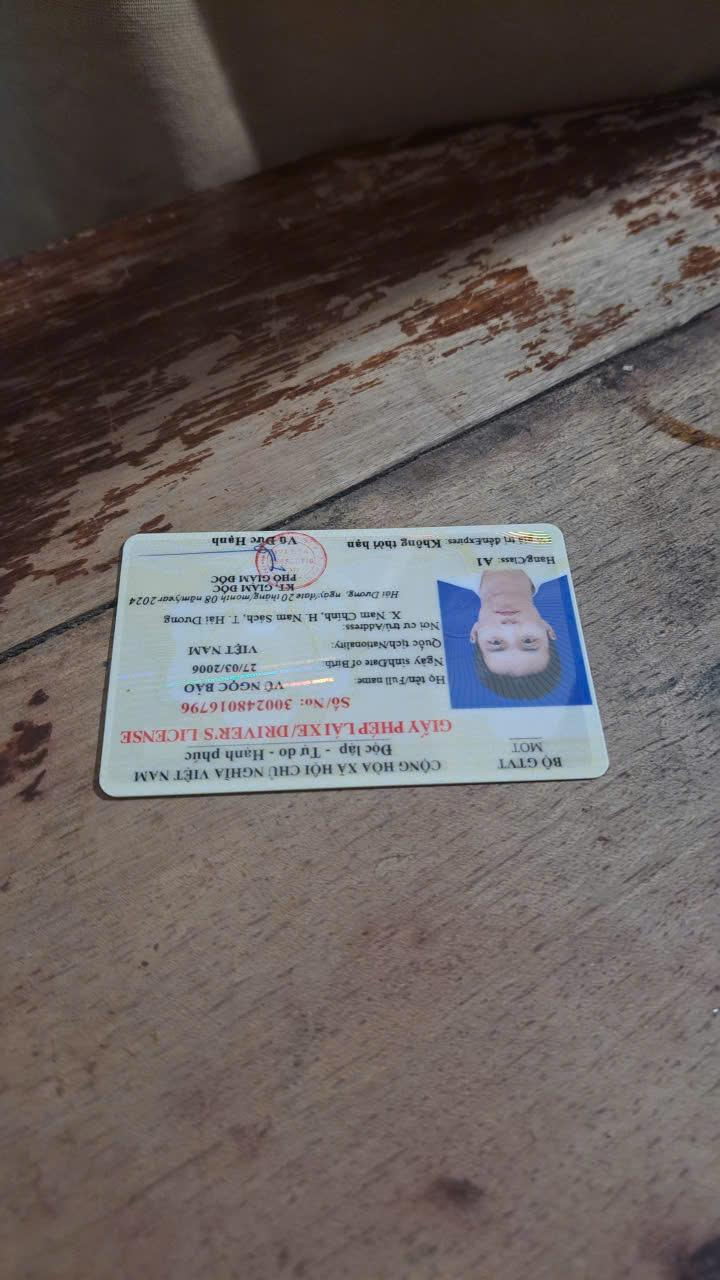gplx: (92, 519, 612, 814)
